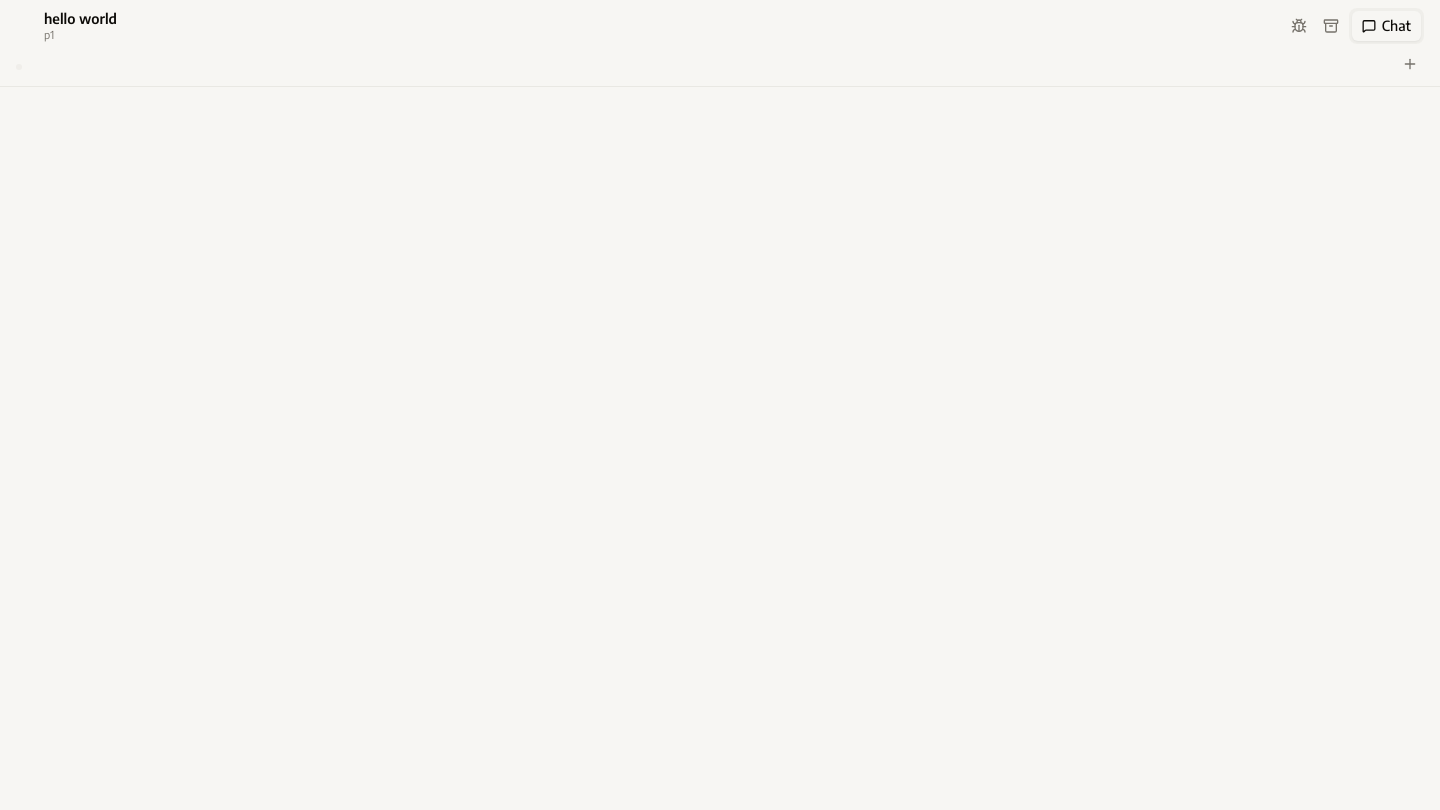
it: MainContentHeader — bug reporter › opens the reporter dialog from the top panel
This screenshot has width=1440, height=810.
What coordinates should you click on to do the following:
click the button named "Report a bug"
I would click on:
 (1299, 26)
Its box is left=1285, top=12, right=1313, bottom=40.
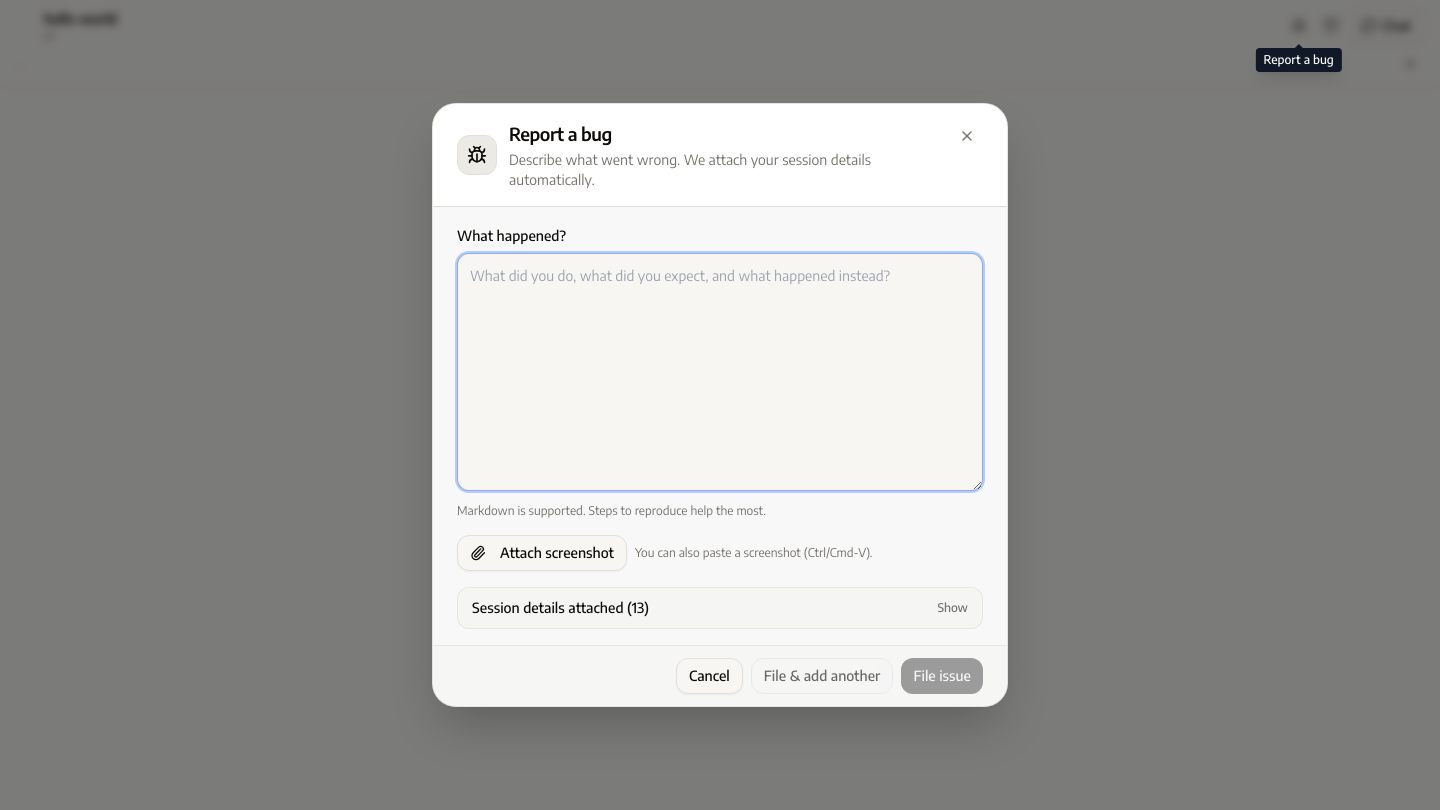
Expected: the dialog is shown, left=432, top=103, right=1008, bottom=707
Expected: the text box labelled "What happened?" is shown, left=457, top=253, right=983, bottom=491
